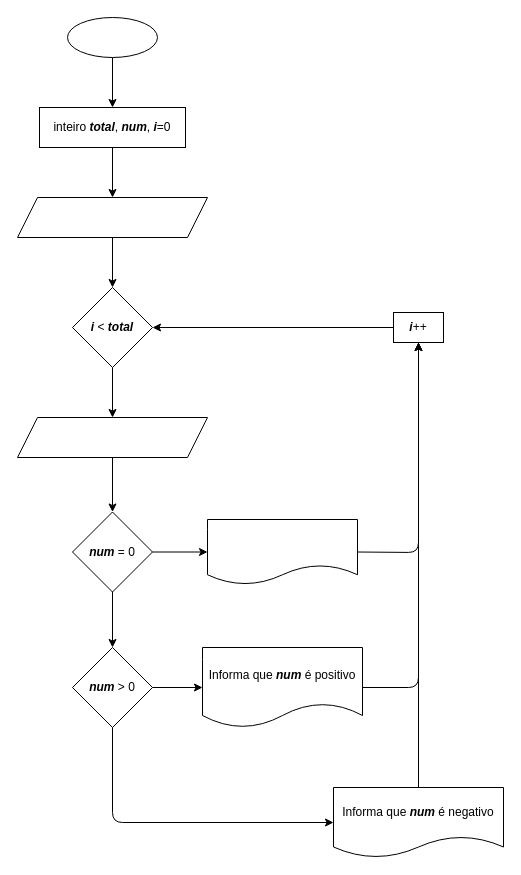
Image size: 521x875. Some labels were removed from this diagram. The shapes that lost their labels are listed below. From the top down, each one's box as (x1, y1, x2, y2) in pixels, then its label:
(66, 16, 158, 58): INÍCIO
(16, 196, 208, 238): Ler valor para variável total
(16, 416, 208, 458): Ler valor para variável num
(206, 518, 358, 584): Informa que num é zero
